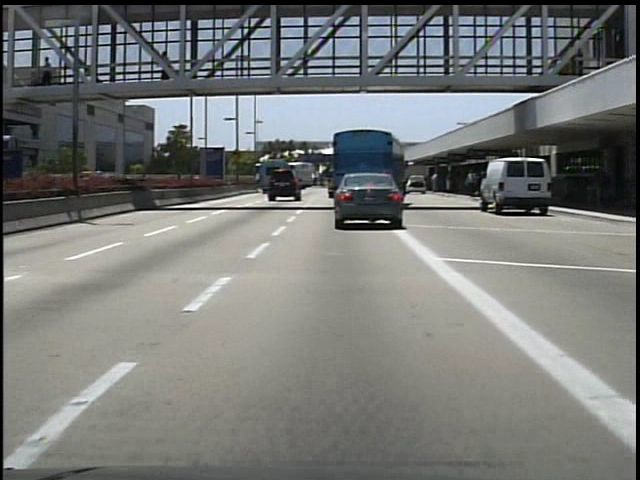person: (590, 166, 611, 211), (158, 49, 178, 91), (40, 54, 59, 87), (465, 166, 479, 199)
